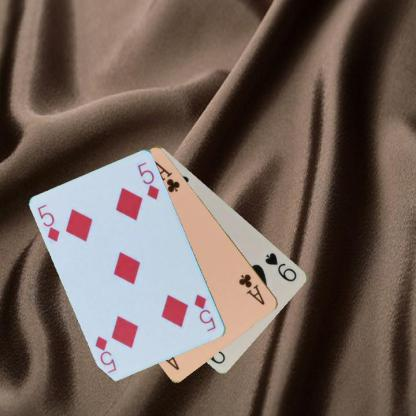5d: (35, 202, 61, 246), (192, 292, 217, 333)
9s: (262, 250, 299, 283)
Ac: (236, 271, 266, 307)
